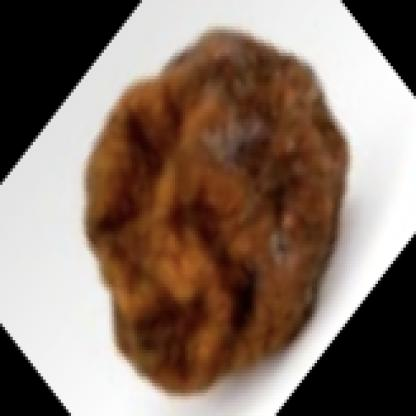rotten: (84, 28, 350, 396)
